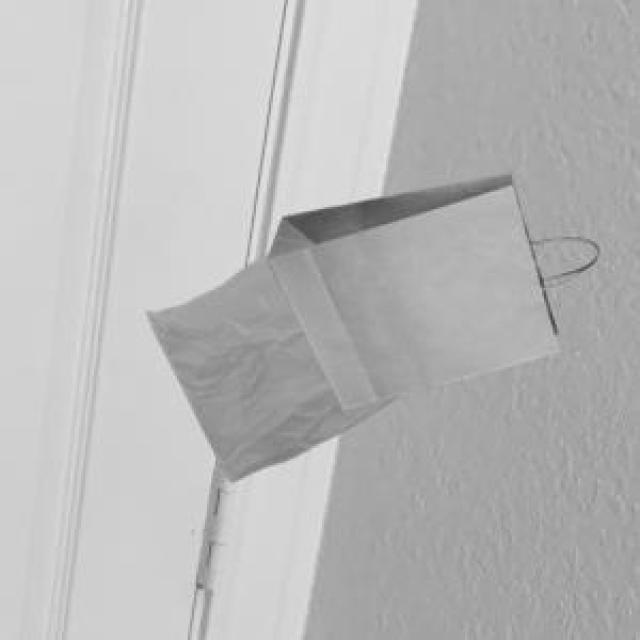paper: (265, 171, 593, 405)
